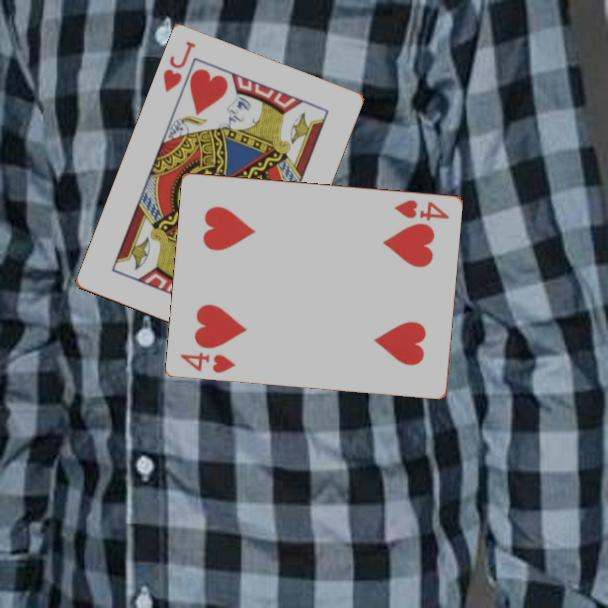h04: (177, 348, 239, 375), (391, 196, 452, 223)
h11: (160, 38, 199, 96)
